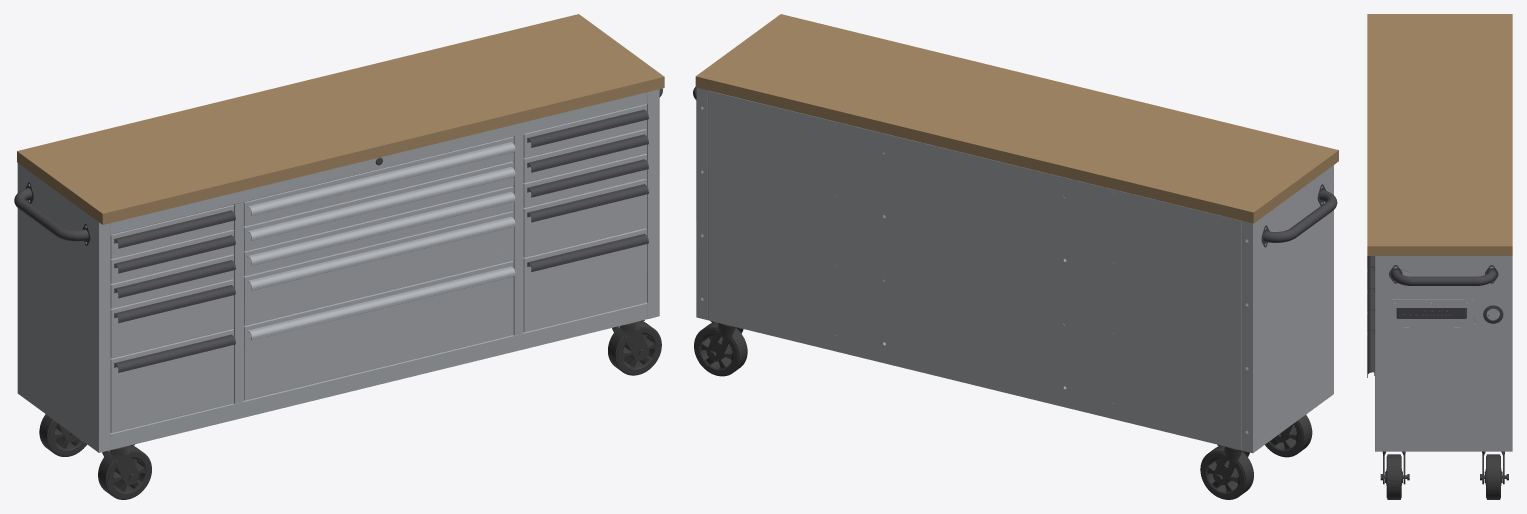
3 renders of one model, left to right at view 1: azimuth 30°, elevation 25°; view 2: azimuth 150°, elevation 25°; view 3: azimuth 270°, elevation 25°, orthographic. The views are drawn at different scales.
Parts seen in each view (by area): view 1: base_wood, base_paint, drawer-b1-paint, drawer-b4-paint, drawer-b2-paint, drawer-b0-paint, drawer-b7-paint, drawer-b10-paint, drawer-b13-paint, base_caster, drawer-b3-paint, drawer-b5-paint (+17 smaller); view 2: base_paint, base_wood, base_caster, handle-l-detail; view 3: base_wood, base_paint, base_caster, handle-r-detail, base_detail, drawer-b2-detail, drawer-b11-detail.
Part boxes in pixels (x1=…): base_wood: x1=17, y1=14, x2=664, y2=224; base_paint: x1=17, y1=89, x2=659, y2=452; drawer-b1-paint: x1=244, y1=260, x2=515, y2=400; drawer-b4-paint: x1=244, y1=211, x2=515, y2=325; drawer-b2-paint: x1=523, y1=228, x2=646, y2=332; drawer-b0-paint: x1=110, y1=329, x2=233, y2=432; drawer-b7-paint: x1=244, y1=186, x2=515, y2=276; drawer-b10-paint: x1=244, y1=161, x2=515, y2=251; drawer-b13-paint: x1=244, y1=136, x2=515, y2=226; base_caster: x1=39, y1=320, x2=661, y2=499; drawer-b3-paint: x1=110, y1=279, x2=233, y2=358; drawer-b5-paint: x1=523, y1=178, x2=646, y2=257; base_paint: x1=696, y1=87, x2=1333, y2=453; base_wood: x1=695, y1=14, x2=1338, y2=223; base_caster: x1=694, y1=321, x2=1312, y2=499; handle-l-detail: x1=1261, y1=184, x2=1337, y2=247; base_wood: x1=1367, y1=14, x2=1512, y2=255; base_paint: x1=1375, y1=256, x2=1512, y2=451; base_caster: x1=1380, y1=451, x2=1508, y2=499; handle-r-detail: x1=1389, y1=265, x2=1498, y2=285; base_detail: x1=1396, y1=305, x2=1503, y2=323; drawer-b2-detail: x1=1367, y1=330, x2=1374, y2=377; drawer-b11-detail: x1=1367, y1=267, x2=1374, y2=293.
Size of the model in its own units: 1.98 by 0.9469 by 0.4855.
